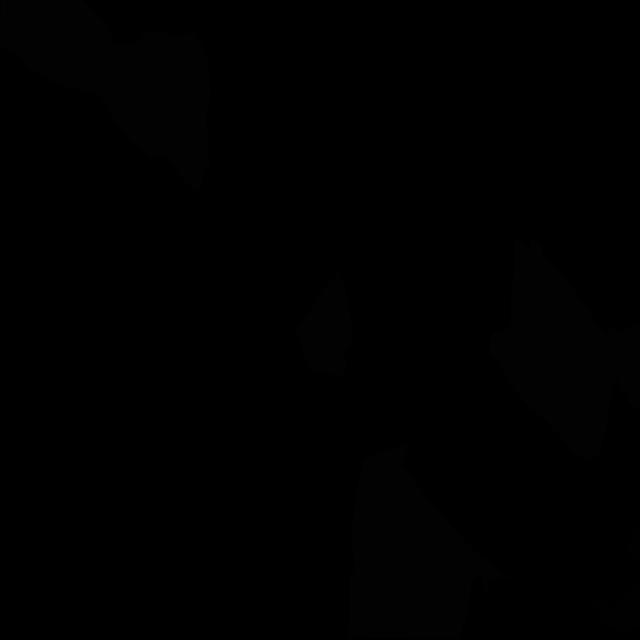cardboard: (348, 444, 511, 639), (488, 237, 616, 460), (294, 271, 354, 375), (606, 324, 640, 411)
rigid_plastic: (590, 518, 640, 636)
